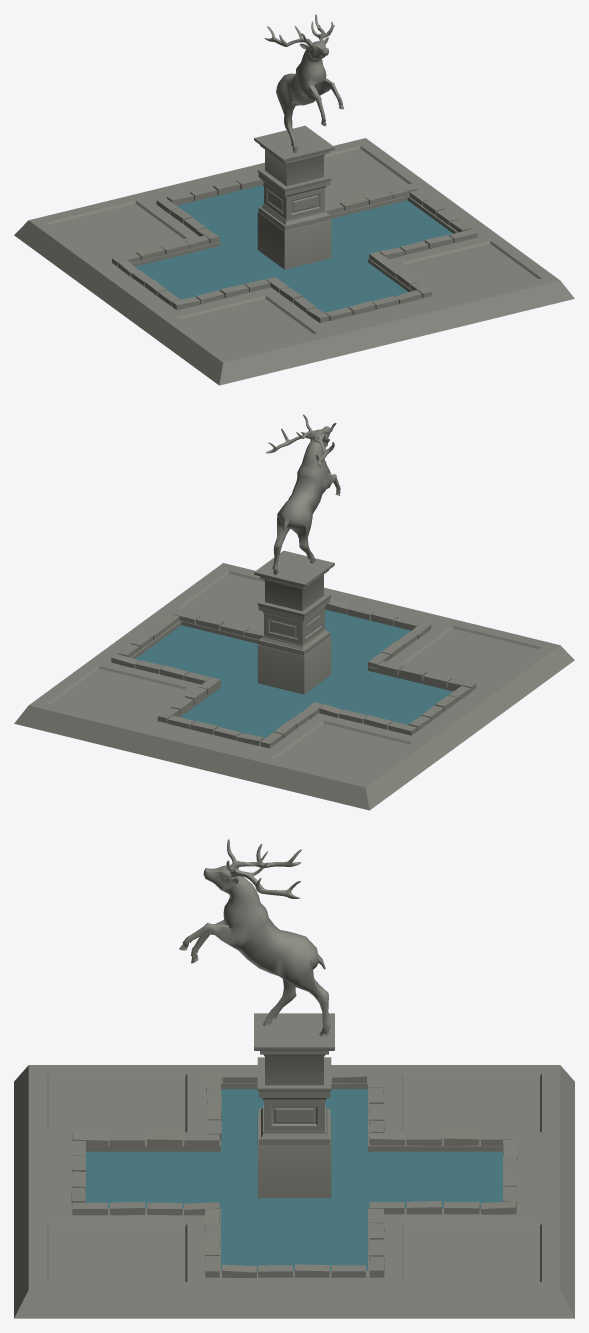
The model's file is TownCenter_SecondAge_Level1.glb.
3 renders of one model, top to bottom at view 1: azimuth 30°, elevation 25°; view 2: azimuth 150°, elevation 25°; view 3: azimuth 270°, elevation 25°, orthographic. The views are drawn at different scales.
Visible parts, largest first — view 1: TownCenter_SecondAge_Level1; view 2: TownCenter_SecondAge_Level1; view 3: TownCenter_SecondAge_Level1.
Boxes of the visible parts, box(x1,y1,x2,y2) form: TownCenter_SecondAge_Level1: box(14, 14, 574, 385); TownCenter_SecondAge_Level1: box(14, 414, 574, 810); TownCenter_SecondAge_Level1: box(14, 839, 574, 1318).
Bounding box in the file's own units: 1.86 × 1.28 × 1.86.
